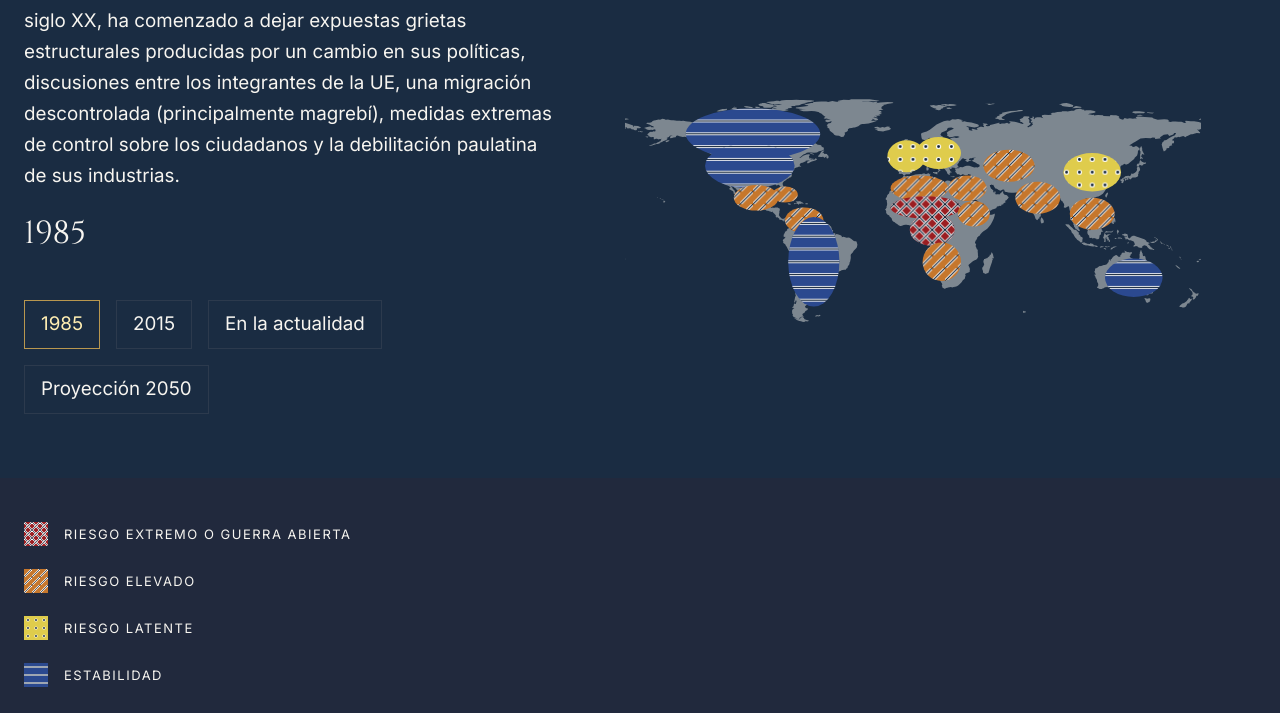
Act2Scene › el selector alinea el ScrollTrigger con progressForPeriod sin recorrer la serie
(page scrolled)
Step 1. Click the button "Proyección 2050" → point(116, 390), box [24,366,209,414]
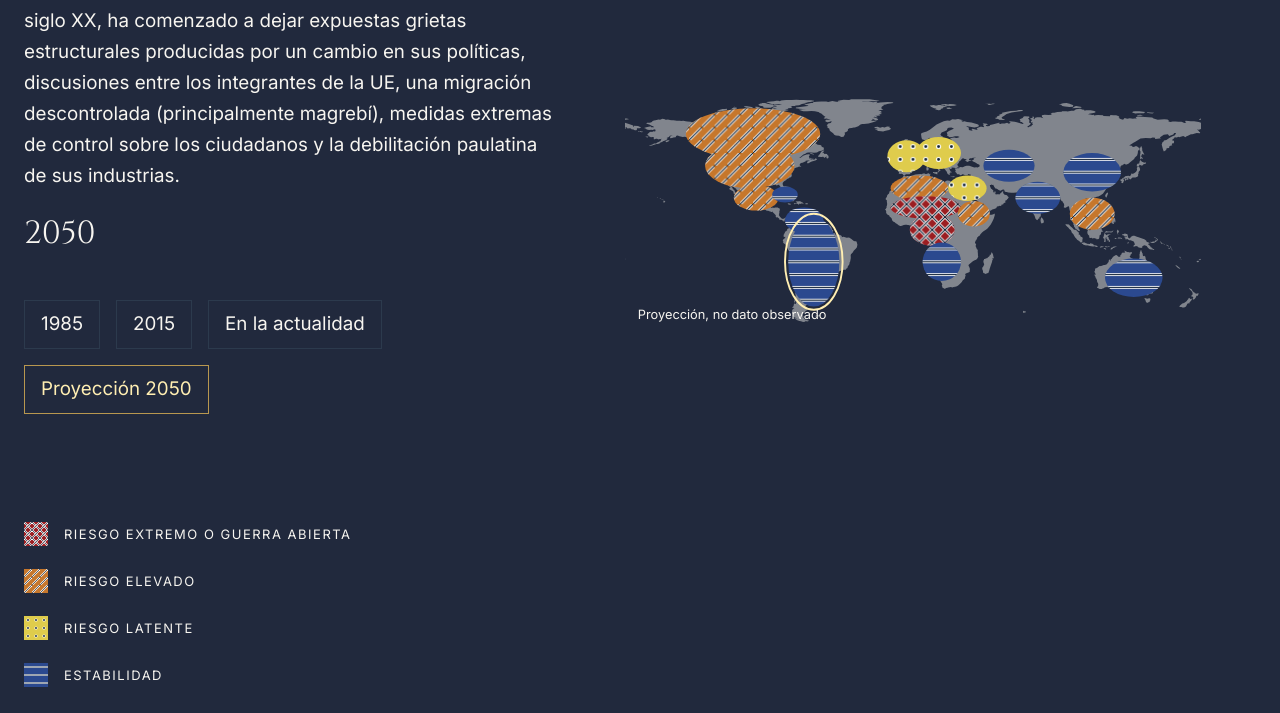
expect the element with class "act2-year" does not show "2015": met
expect the element with class "act2-year" reads "2050": met, box [24,212,96,255]
